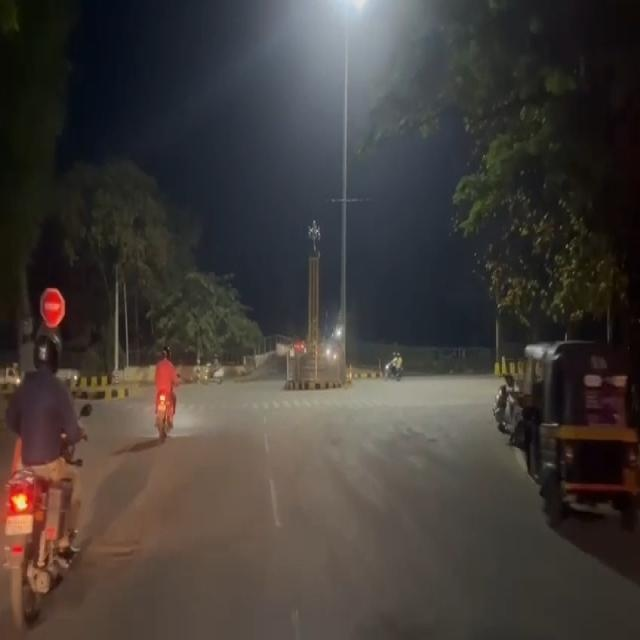bien_nguy_hiem: (40, 285, 66, 329)
